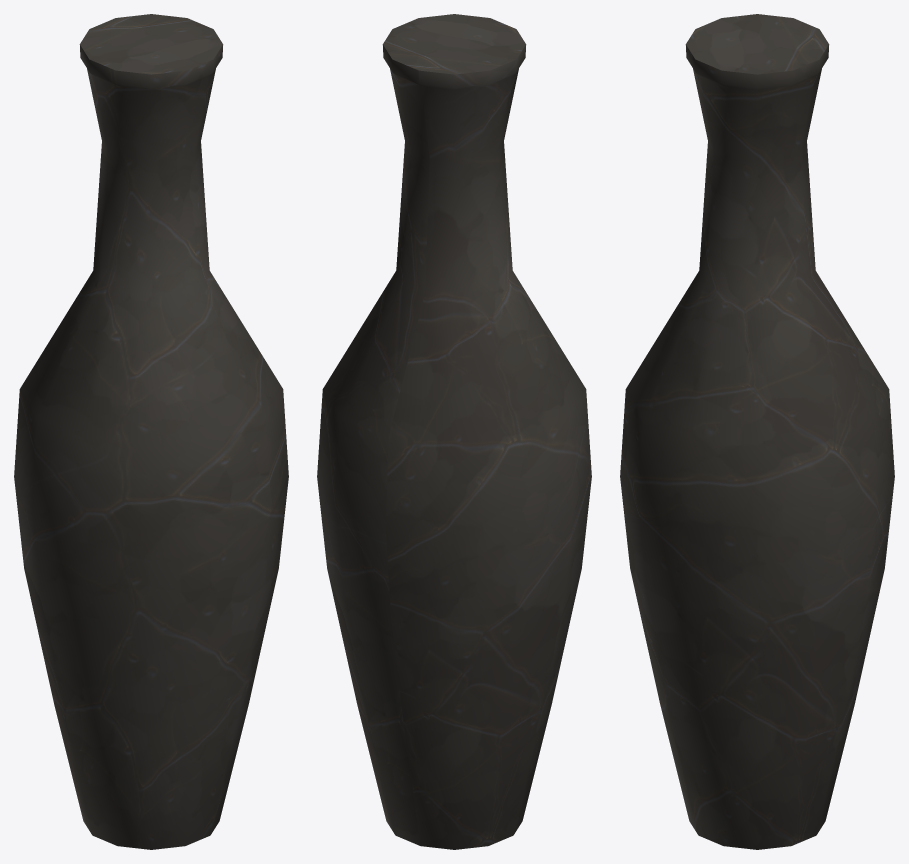
Rendered from Big vase.fbx.
The picture shows the model from 3 angles, left to right: view 1: azimuth 30°, elevation 25°; view 2: azimuth 150°, elevation 25°; view 3: azimuth 270°, elevation 25°; orthographic projection.
Parts seen in each view (by area): view 1: Big_Vase1; view 2: Big_Vase1; view 3: Big_Vase1.
Part boxes in pixels (left/top/right/bottom): Big_Vase1: left=14, top=14, right=288, bottom=849; Big_Vase1: left=317, top=14, right=591, bottom=849; Big_Vase1: left=620, top=14, right=894, bottom=849.
Bounding box in the file's own units: 0.2553 × 0.7964 × 0.2554.
